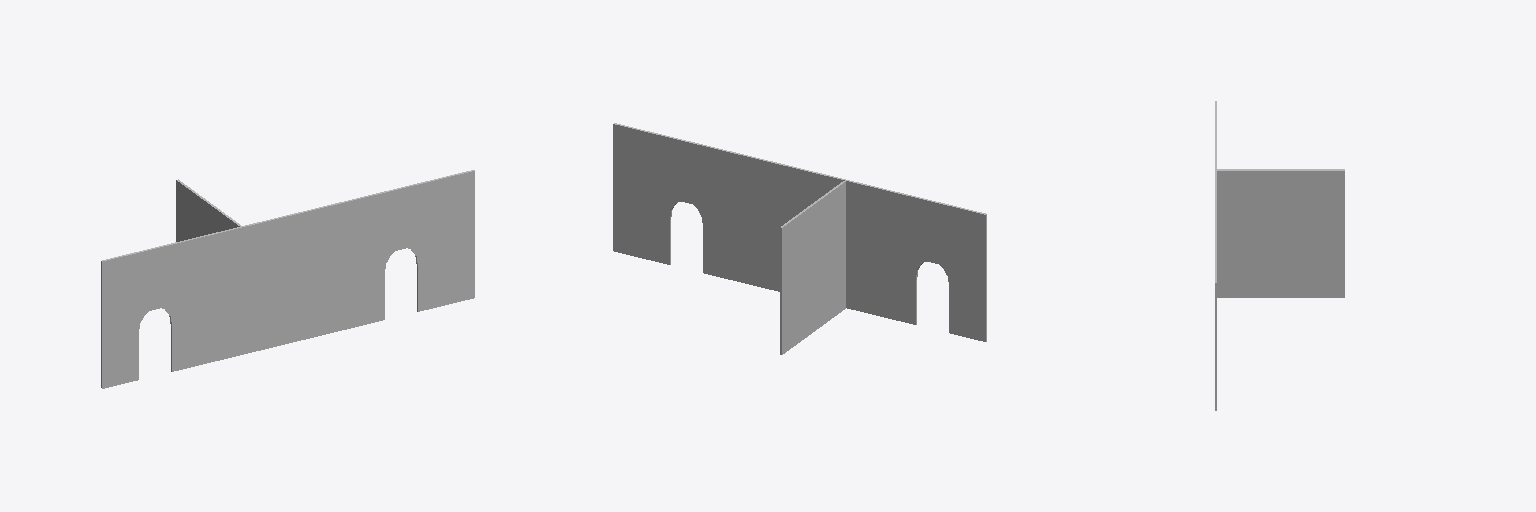
The model's file is wall_01.obj.
3 views of the same model, side by side, from view 1: azimuth 30°, elevation 25°; view 2: azimuth 150°, elevation 25°; view 3: azimuth 270°, elevation 25° (orthographic).
Parts seen in each view (by area): view 1: wall_01 wall4, wall wall_01; view 2: wall_01 wall4, wall wall_01; view 3: wall wall_01, wall_01 wall4.
Boxes of the visible parts, x1=… form: wall_01 wall4: x1=101, y1=170, x2=474, y2=388; wall wall_01: x1=176, y1=179, x2=240, y2=241; wall_01 wall4: x1=613, y1=123, x2=986, y2=341; wall wall_01: x1=780, y1=181, x2=845, y2=354; wall wall_01: x1=1217, y1=169, x2=1344, y2=297; wall_01 wall4: x1=1215, y1=101, x2=1216, y2=410.
Bounding box in the file's own units: 22.5 × 7.36 × 6.84.